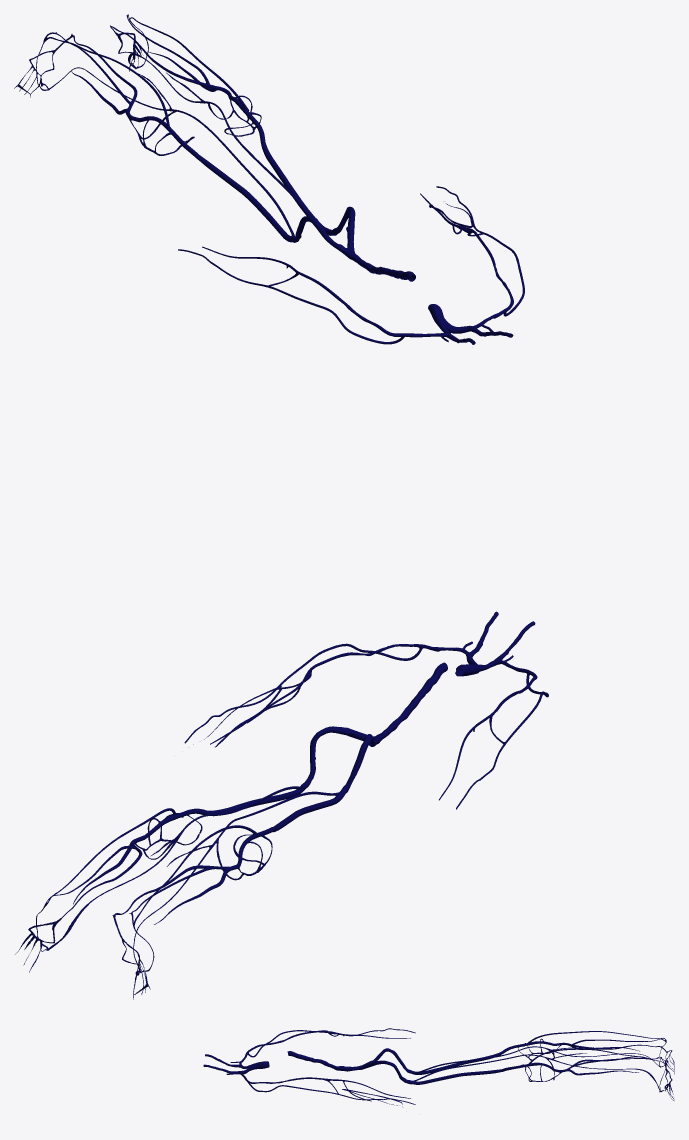
Rendered from body-04.glb.
3 renders of one model, top to bottom at view 1: azimuth 30°, elevation 25°; view 2: azimuth 150°, elevation 25°; view 3: azimuth 270°, elevation 25°, orthographic. The views are drawn at different scales.
Visible parts, largest first — view 1: Extract5; view 2: Extract5; view 3: Extract5.
Part boxes in pixels (left/top/right/bottom): Extract5: left=14, top=14, right=524, bottom=344; Extract5: left=15, top=611, right=548, bottom=999; Extract5: left=203, top=1028, right=674, bottom=1106.
Bounding box in the file's own units: 5.99 × 1.74 × 21.6.
